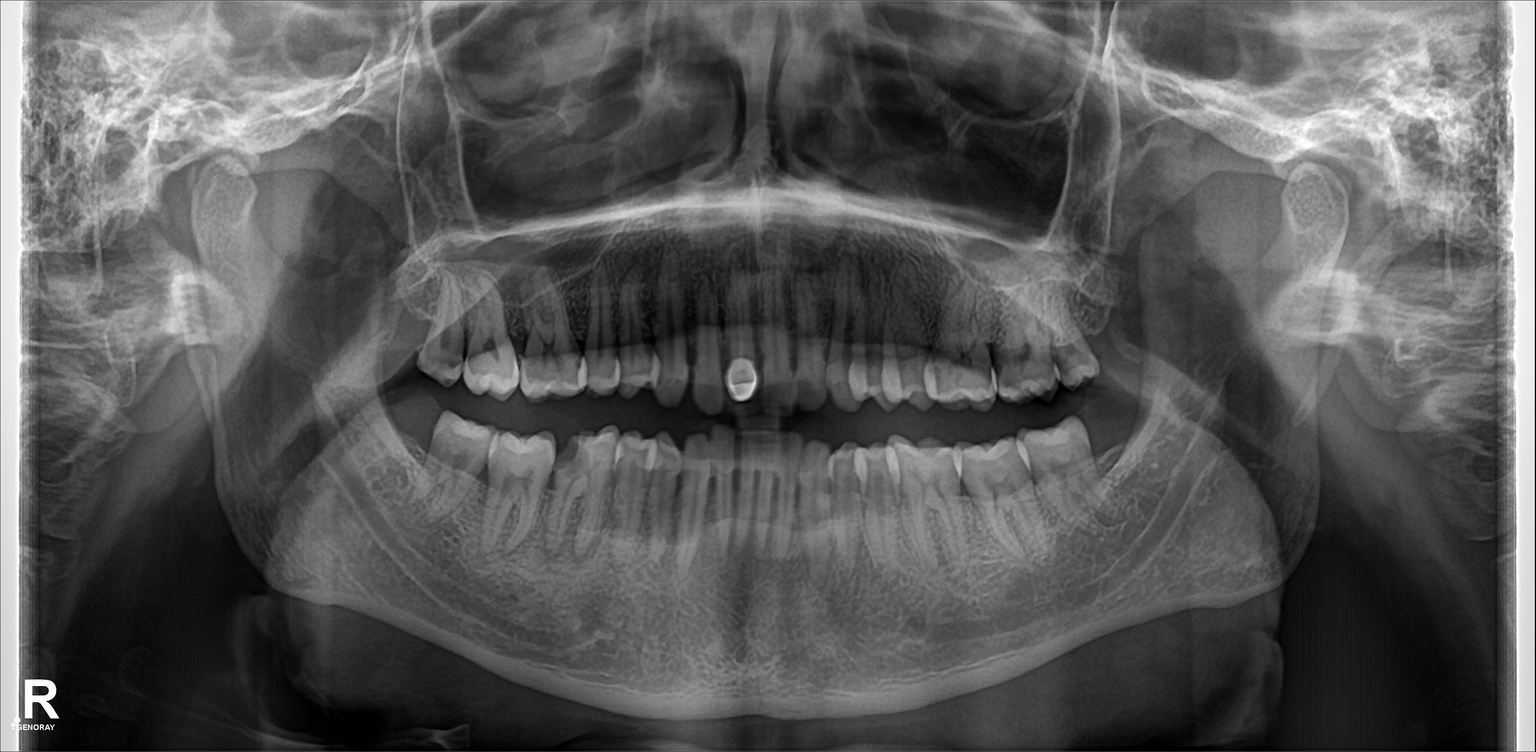Dental Caries: (548, 436, 585, 480), (432, 329, 462, 375)
Endodontically Treated Tooth: (730, 290, 754, 401)
Missing Tooth: (387, 385, 432, 469), (1093, 400, 1137, 468)
